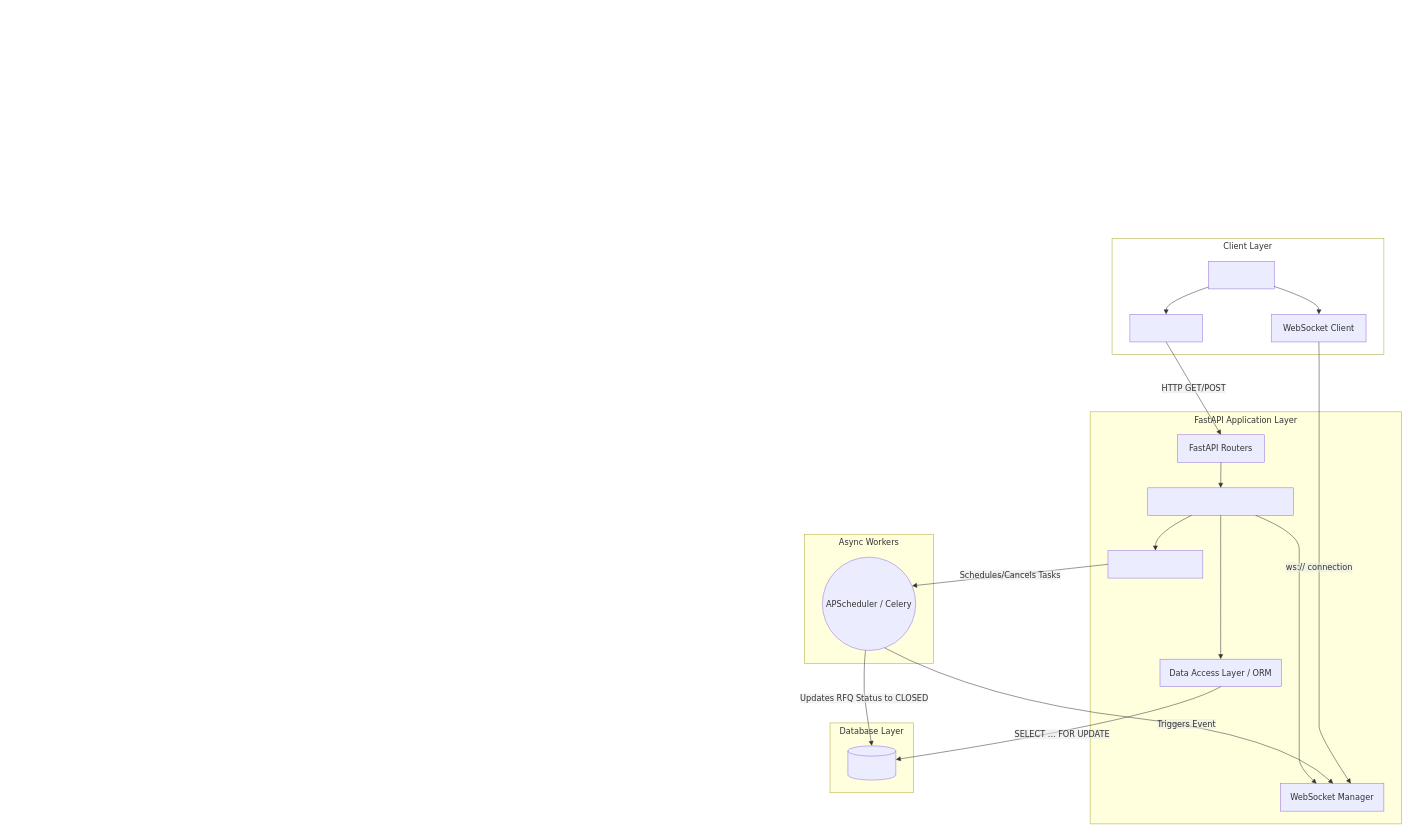
This 1411x833 diagram has some shape labels left out. The centre of each missing label's shape, as x and y in pixels:
Auction Engine / Business Logic: (1220,501)
PostgreSQL: (871,762)
React SPA: (1241,275)
REST Client: (1165,328)
Task Orchestrator: (1155,564)
